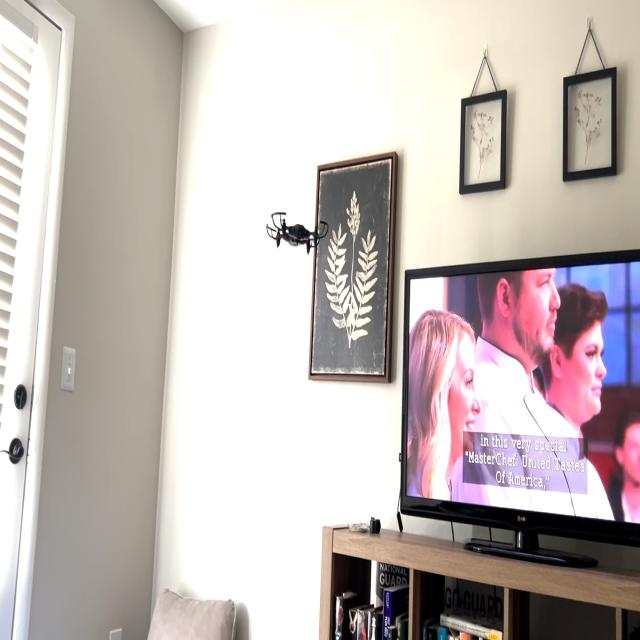drone: (252, 196, 336, 264)
